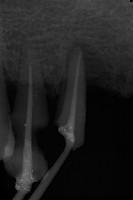Dental Caries: (65, 41, 106, 86)
